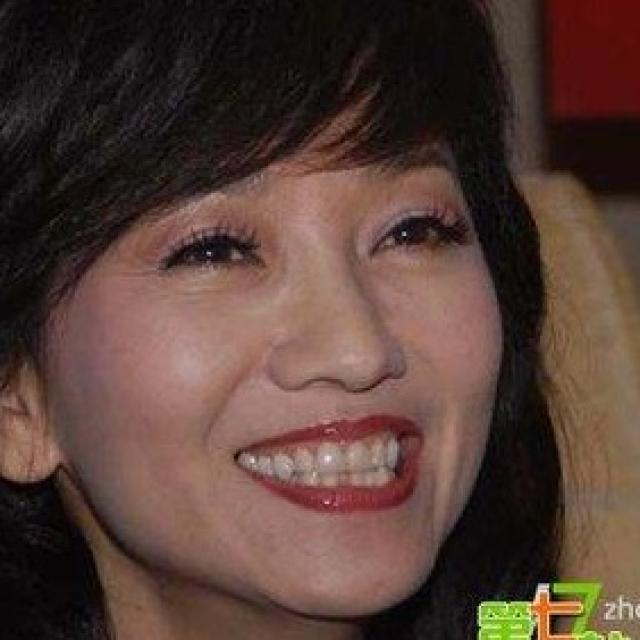Normal: (47, 96, 503, 613)
